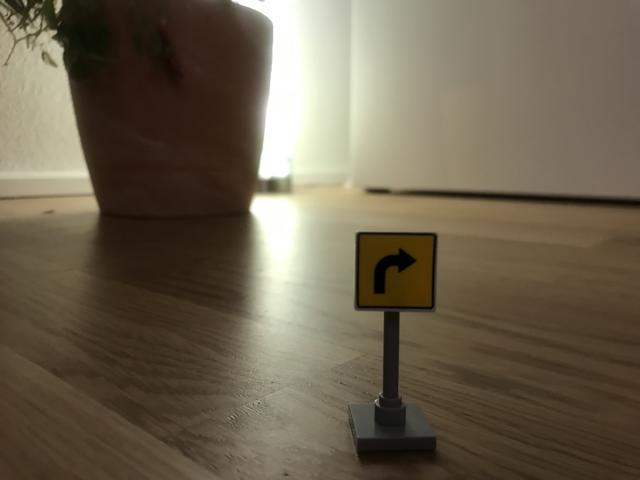fahrtrichtung rechts: (355, 229, 441, 315)
